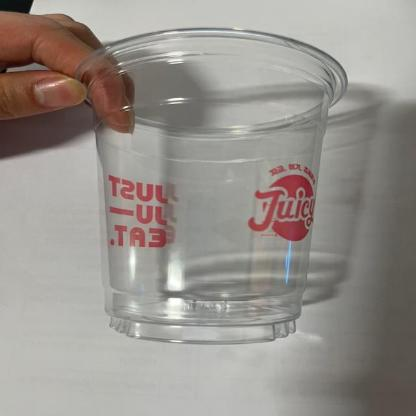Plastic Cup: (70, 24, 350, 346)
